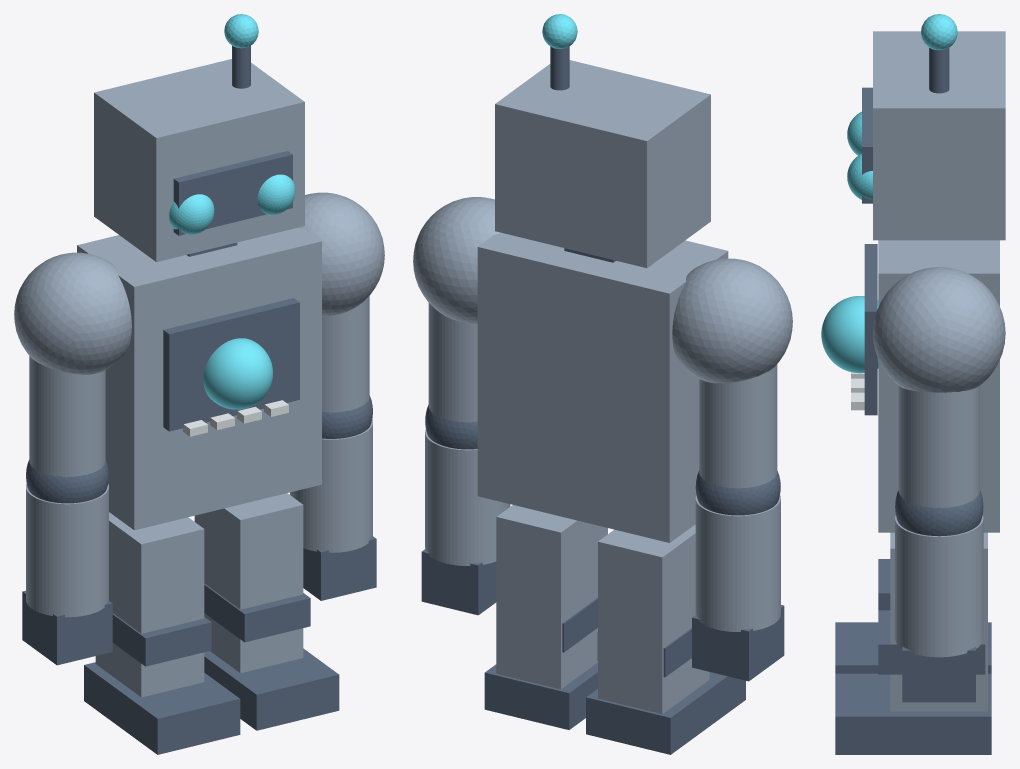
File: robot.glb
The picture shows the model from 3 angles, left to right: view 1: azimuth 30°, elevation 25°; view 2: azimuth 150°, elevation 25°; view 3: azimuth 270°, elevation 25°; orthographic projection. The views are drawn at different scales.
Visible parts, largest first — view 1: torso, head, leg-1, leg1, shoulder-1, chest_panel, forearm-1, foot-1, upper_arm-1, forearm1, shoulder1, foot1 (+13 smaller); view 2: torso, head, leg1, leg-1, shoulder-1, forearm-1, upper_arm-1, forearm1, shoulder1, foot-1, upper_arm1, foot1 (+8 smaller); view 3: head, shoulder1, torso, forearm1, upper_arm1, foot1, hand1, leg1, chest_core, elbow1, foot-1, chest_panel (+7 smaller).
Boxes of the visible parts, bbox=[...] form: torso: bbox=[77, 227, 321, 530]; head: bbox=[94, 59, 304, 261]; leg-1: bbox=[95, 512, 204, 697]; leg1: bbox=[194, 493, 303, 673]; shoulder-1: bbox=[14, 252, 131, 374]; chest_panel: bbox=[163, 298, 299, 431]; forearm-1: bbox=[26, 483, 108, 617]; foot-1: bbox=[84, 662, 240, 754]; upper_arm-1: bbox=[29, 356, 105, 476]; forearm1: bbox=[290, 419, 372, 552]; shoulder1: bbox=[298, 192, 384, 316]; foot1: bbox=[204, 648, 339, 730]; torso: bbox=[477, 233, 728, 542]; head: bbox=[495, 60, 710, 267]; leg1: bbox=[496, 505, 607, 689]; leg-1: bbox=[598, 524, 709, 714]; shoulder-1: bbox=[672, 258, 792, 383]; forearm-1: bbox=[695, 495, 780, 631]; upper_arm-1: bbox=[699, 364, 777, 488]; forearm1: bbox=[425, 429, 510, 565]; shoulder1: bbox=[413, 197, 501, 324]; foot-1: bbox=[586, 672, 745, 754]; upper_arm1: bbox=[428, 303, 477, 422]; foot1: bbox=[484, 662, 597, 729]; head: bbox=[873, 31, 1005, 240]; shoulder1: bbox=[873, 267, 1005, 392]; torso: bbox=[878, 240, 999, 532]; forearm1: bbox=[895, 515, 983, 657]; upper_arm1: bbox=[898, 385, 979, 507]; foot1: bbox=[835, 673, 991, 754]; hand1: bbox=[902, 646, 975, 702]; leg1: bbox=[890, 532, 987, 711]; chest_core: bbox=[821, 296, 878, 373]; elbow1: bbox=[895, 490, 983, 536]; foot-1: bbox=[835, 622, 991, 673]; chest_panel: bbox=[864, 244, 877, 415].
Size of the model in its own units: 2.36 by 4.28 by 1.
